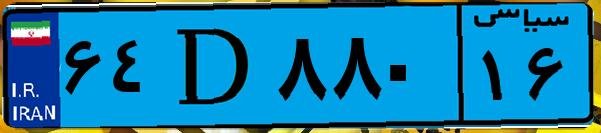0: (385, 28, 445, 110)
1: (475, 38, 525, 113)
4: (110, 28, 158, 98)
6: (57, 26, 110, 100), (525, 38, 570, 115)
8: (270, 28, 330, 110), (330, 28, 385, 110)
D: (158, 12, 270, 120)
